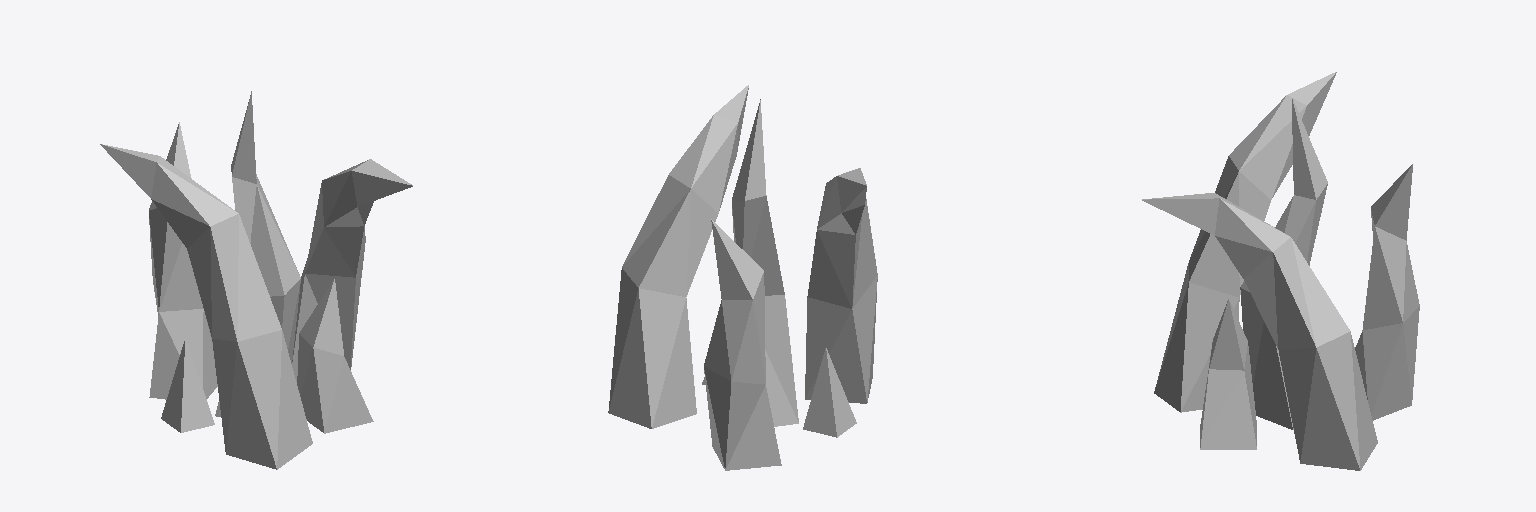
File: Grass2.obj
The picture shows the model from 3 angles: view 1: azimuth 30°, elevation 25°; view 2: azimuth 150°, elevation 25°; view 3: azimuth 270°, elevation 25°; orthographic projection.
Visible parts, largest first — view 1: Plane; view 2: Plane; view 3: Plane.
Boxes of the visible parts, x1=… form: Plane: x1=100, y1=91, x2=412, y2=469; Plane: x1=608, y1=85, x2=877, y2=470; Plane: x1=1142, y1=72, x2=1419, y2=470.
Bounding box in the file's own units: 0.7449 × 0.8947 × 0.7049.